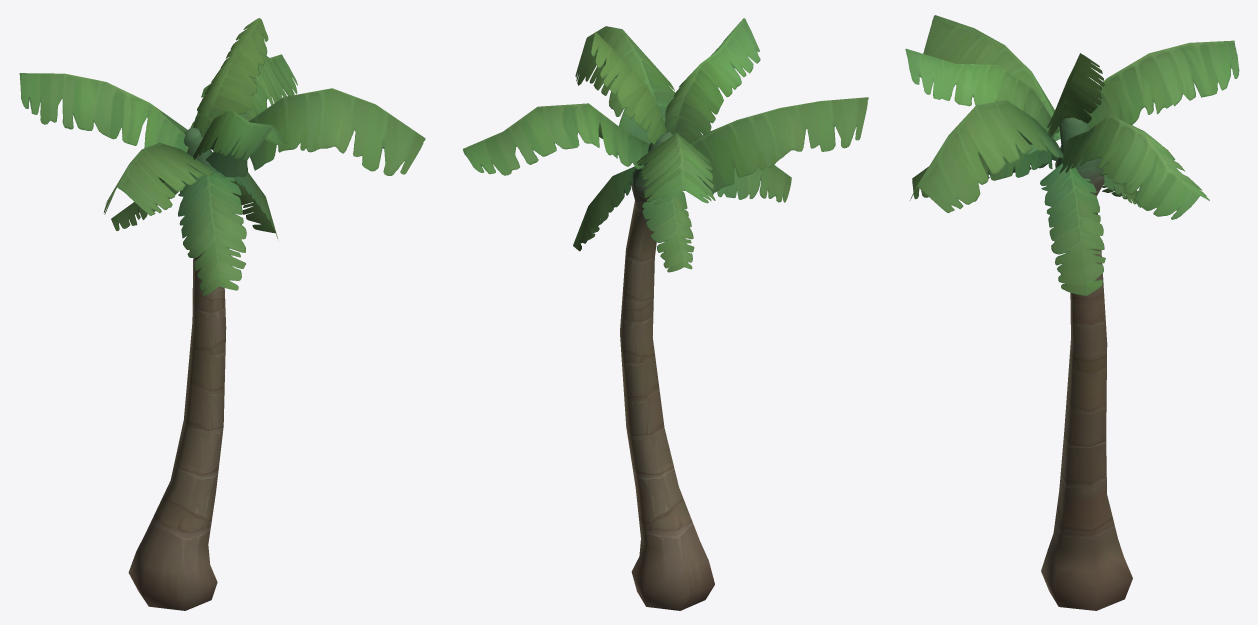
File: zw_kmd_003_sm.FBX
3 views of the same model, side by side, from view 1: azimuth 30°, elevation 25°; view 2: azimuth 150°, elevation 25°; view 3: azimuth 270°, elevation 25° (orthographic). The views are drawn at different scales.
Parts seen in each view (by area): view 1: zw_kmd_003c2_sm, zw_kmd_003c1_sm; view 2: zw_kmd_003c2_sm, zw_kmd_003c1_sm; view 3: zw_kmd_003c2_sm, zw_kmd_003c1_sm.
Boxes of the visible parts, box(x1,y1,x2,y2) form: zw_kmd_003c2_sm: box(19, 18, 425, 296); zw_kmd_003c1_sm: box(128, 127, 226, 610); zw_kmd_003c2_sm: box(463, 18, 868, 272); zw_kmd_003c1_sm: box(620, 132, 714, 610); zw_kmd_003c2_sm: box(905, 15, 1239, 295); zw_kmd_003c1_sm: box(1041, 117, 1132, 610).
Bounding box in the file's own units: 3.34 × 5.88 × 3.12.
2 materials, 2 textured.
